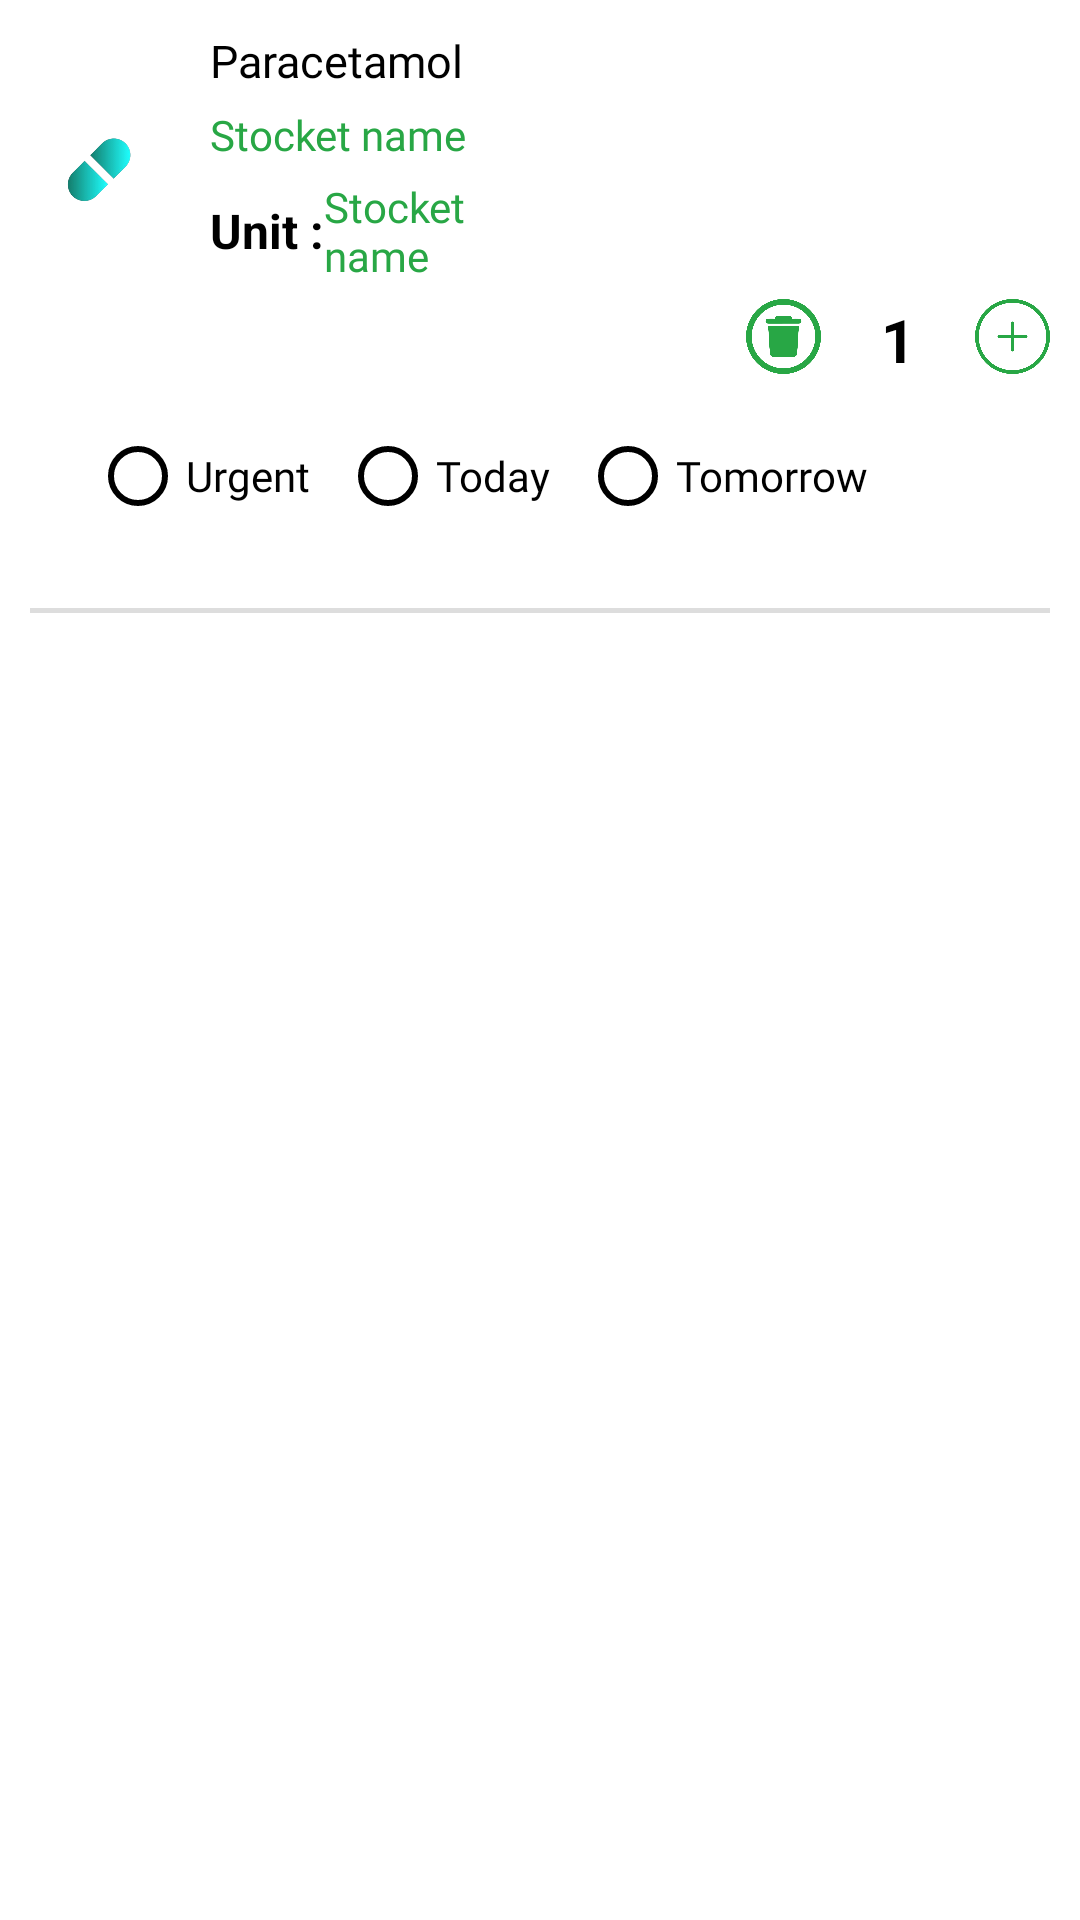

Where icons sit on this 1080px x 1920px app screen, as region(x1, y1, x2, y2):
add: region(975, 299, 1050, 374)
delete: region(746, 299, 821, 374)
